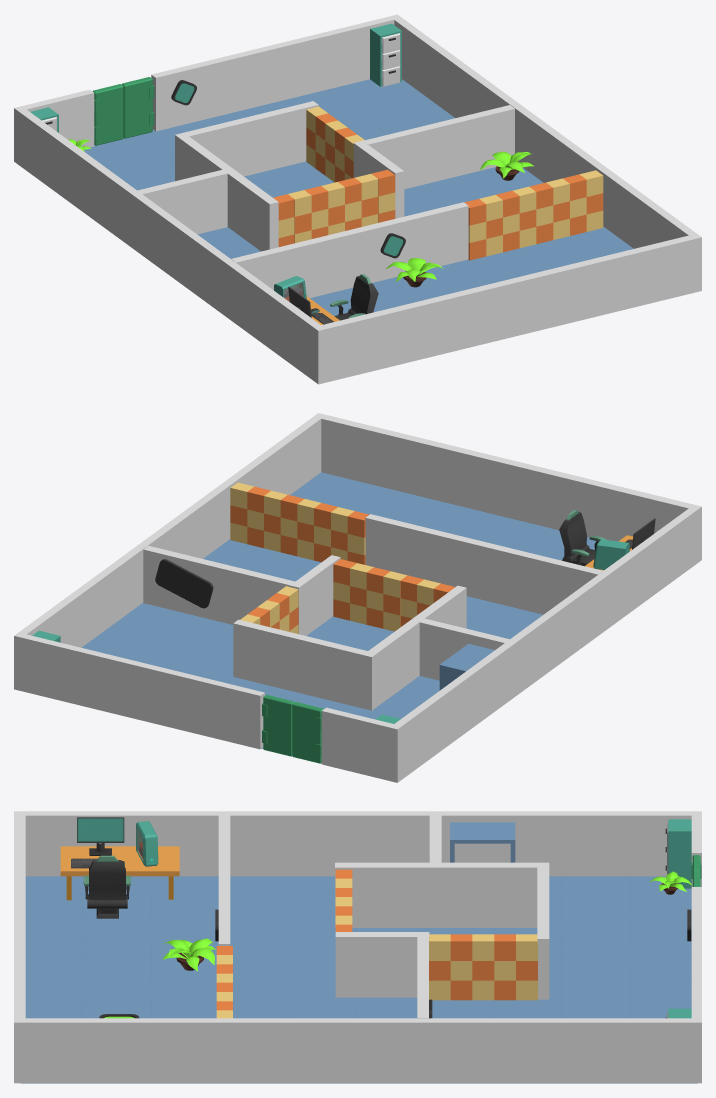
File: maps_09.fbx
3 views of the same model, one above another, from view 1: azimuth 30°, elevation 25°; view 2: azimuth 150°, elevation 25°; view 3: azimuth 270°, elevation 25° (orthographic). The views are drawn at different scales.
Visible parts, largest first — view 1: polySurface144, polySurface195, polySurface196, polySurface191, polySurface193, polySurface199, polySurface192, polySurface198, polySurface259, polySurface260, polySurface197, wardrobe_geo1 (+8 smaller); view 2: polySurface144, polySurface195, polySurface196, polySurface193, polySurface191, polySurface199, polySurface198, polySurface192, polySurface197, polySurface259, polySurface260, polySurface261 (+6 smaller); view 3: polySurface144, polySurface191, polySurface196, polySurface259, polySurface261, table03, polySurface258, polySurface195, polySurface257, polySurface198, polySurface199, tu_02_01_geo (+24 smaller).
Boxes of the visible parts, x1=… form: polySurface144: x1=84, y1=79, x2=633, y2=315; polySurface195: x1=321, y1=235, x2=694, y2=382; polySurface196: x1=14, y1=106, x2=326, y2=384; polySurface191: x1=390, y1=14, x2=701, y2=292; polySurface193: x1=151, y1=16, x2=394, y2=131; polySurface199: x1=231, y1=202, x2=468, y2=297; polySurface192: x1=363, y1=105, x2=514, y2=189; polySurface198: x1=175, y1=101, x2=318, y2=181; polySurface259: x1=180, y1=136, x2=278, y2=251; polySurface260: x1=135, y1=169, x2=227, y2=234; polySurface197: x1=22, y1=89, x2=94, y2=147; wardrobe_geo1: x1=370, y1=23, x2=401, y2=86; polySurface144: x1=82, y1=472, x2=596, y2=756; polySurface195: x1=321, y1=415, x2=693, y2=541; polySurface196: x1=389, y1=504, x2=701, y2=782; polySurface193: x1=22, y1=634, x2=264, y2=749; polySurface191: x1=14, y1=413, x2=325, y2=691; polySurface199: x1=365, y1=514, x2=602, y2=614; polySurface198: x1=233, y1=619, x2=376, y2=710; polySurface192: x1=143, y1=545, x2=294, y2=624; polySurface197: x1=321, y1=707, x2=393, y2=780; polySurface259: x1=368, y1=585, x2=466, y2=706; polySurface260: x1=419, y1=618, x2=511, y2=680; polySurface261: x1=290, y1=555, x2=340, y2=635; polySurface144: x1=21, y1=876, x2=697, y2=1083; polySurface191: x1=14, y1=1018, x2=701, y2=1083; polySurface196: x1=14, y1=811, x2=701, y2=876; polySurface259: x1=335, y1=862, x2=537, y2=927; polySurface261: x1=335, y1=932, x2=429, y2=997; table03: x1=60, y1=846, x2=179, y2=900; polySurface258: x1=71, y1=817, x2=158, y2=868; polySurface195: x1=14, y1=815, x2=25, y2=1018; polySurface257: x1=83, y1=855, x2=130, y2=918; polySurface198: x1=537, y1=862, x2=549, y2=999; polySurface199: x1=218, y1=815, x2=230, y2=945; tu_02_01_geo: x1=450, y1=822, x2=515, y2=862.
Bounding box in the file's own units: 66.51 × 10.09 × 91.46.
12 materials, 11 textured.
